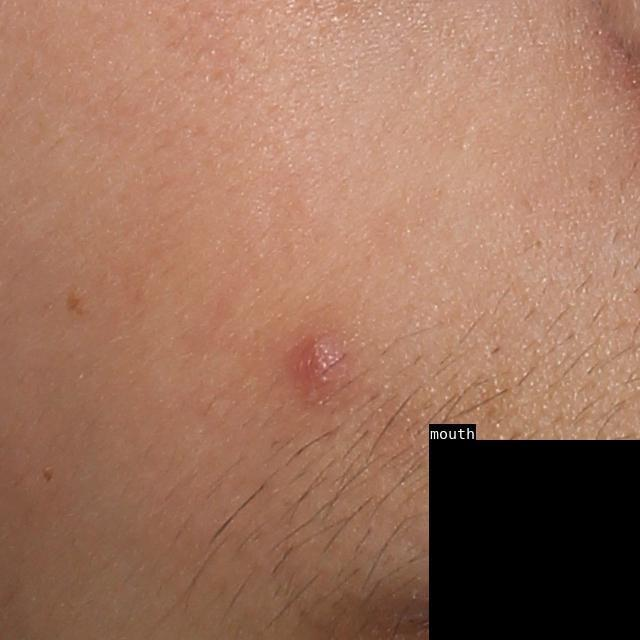melasma: (66, 285, 90, 319)
papule: (295, 330, 360, 407)
